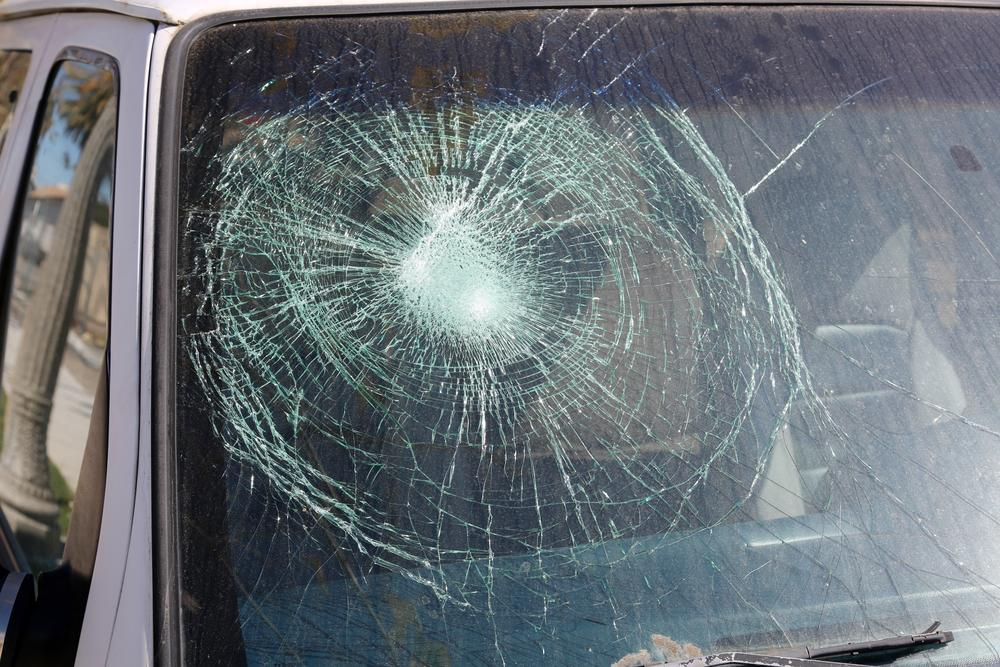glass shatter: (175, 4, 1000, 667)
